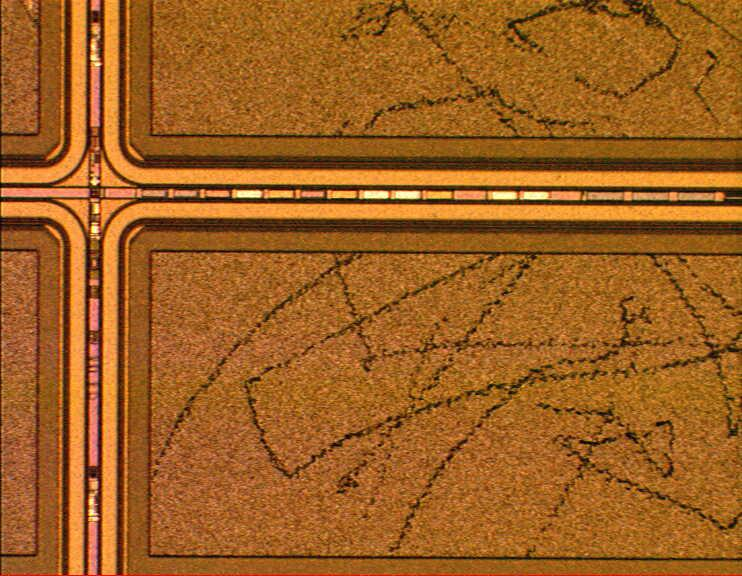SCRATCH: (139, 1, 742, 564)
